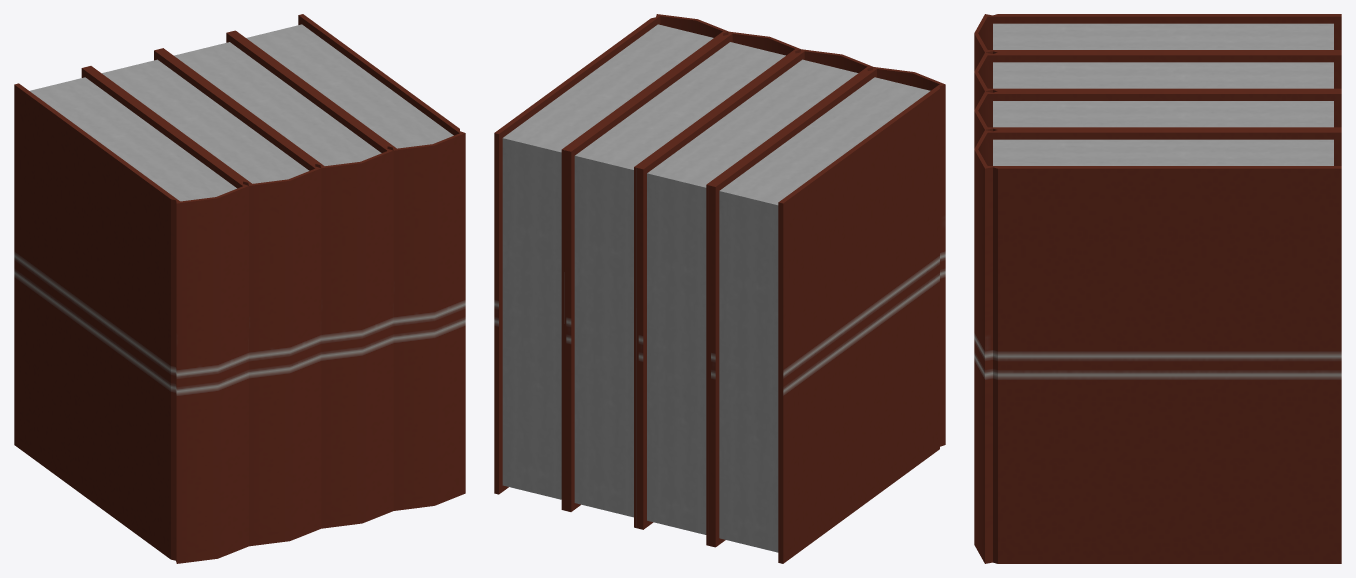
The model's file is Prop_Books_Stacks_2.fbx.
3 views of the same model, side by side, from view 1: azimuth 30°, elevation 25°; view 2: azimuth 150°, elevation 25°; view 3: azimuth 270°, elevation 25° (orthographic). The views are drawn at different scales.
Parts seen in each view (by area): view 1: Prop_Books_Stacks_2; view 2: Prop_Books_Stacks_2; view 3: Prop_Books_Stacks_2.
Boxes of the visible parts, x1=… form: Prop_Books_Stacks_2: x1=14, y1=14, x2=465, y2=563; Prop_Books_Stacks_2: x1=494, y1=14, x2=945, y2=563; Prop_Books_Stacks_2: x1=974, y1=14, x2=1341, y2=563.
Size of the model in its own units: 0.1205 by 0.1436 by 0.121.
